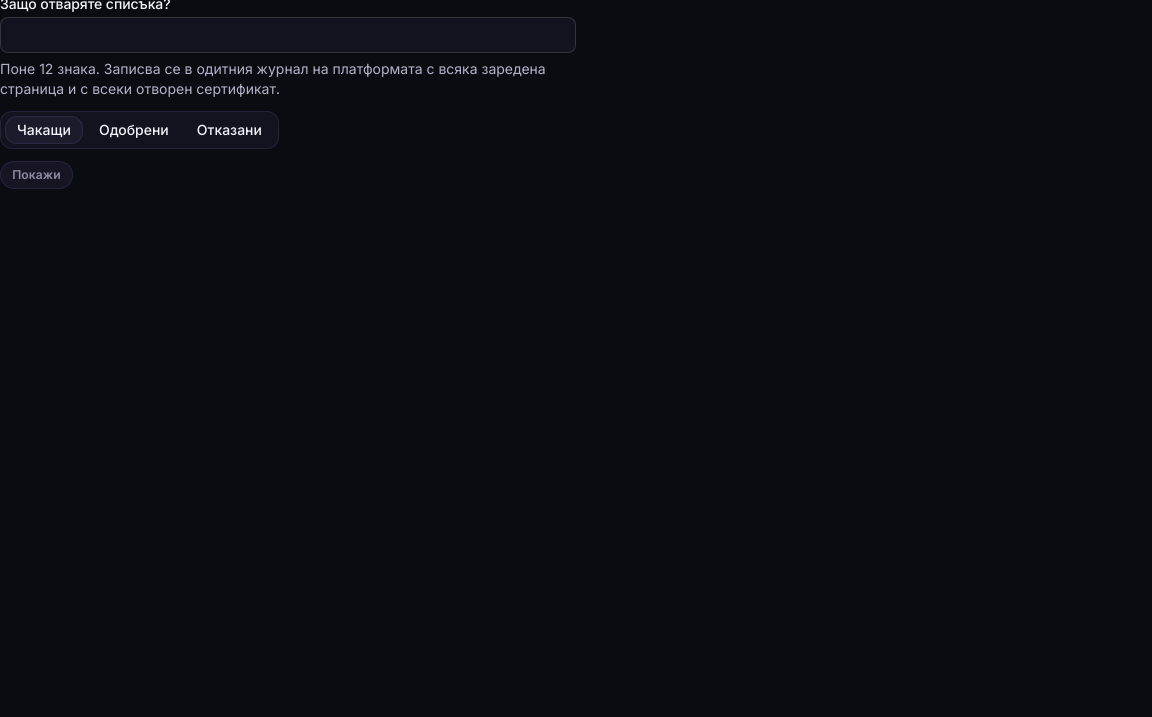
Test: opening the list › "show more" reads exactly the next page
Type "approving the pilot coaches, 14 October" into the field labelled "Защо отваряте списъка?" at (288, 35), box [0,17,576,53]
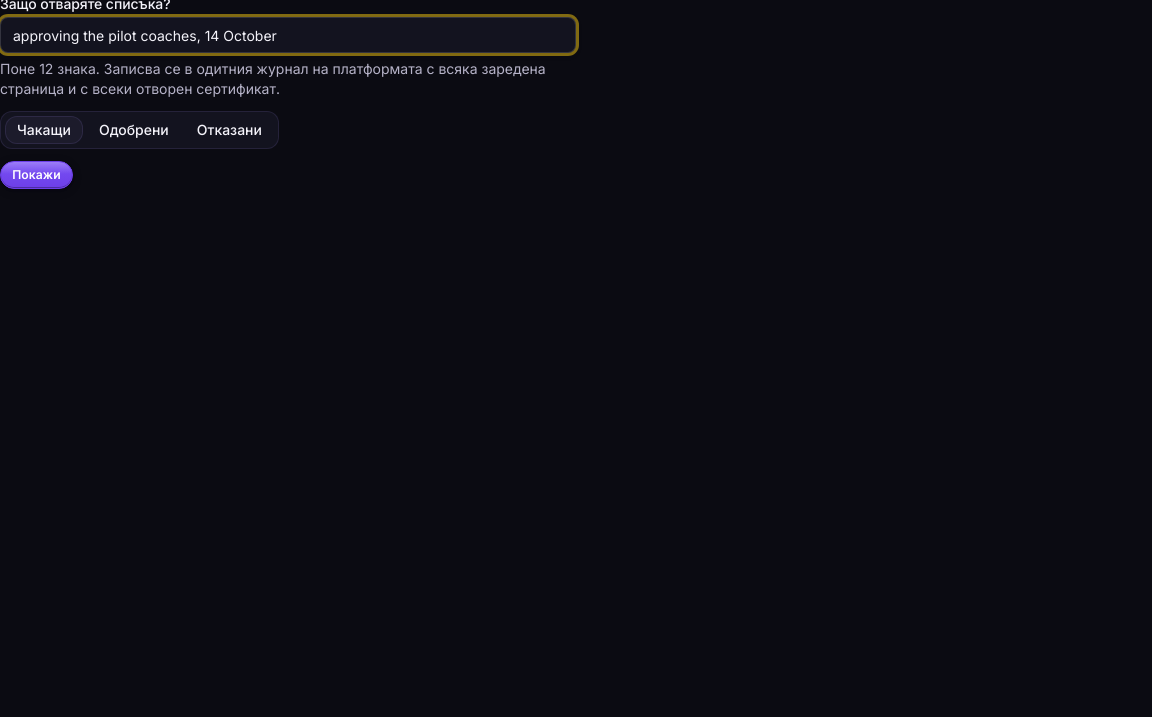
Click the button "Покажи" at (36, 175), box [0,161,73,189]
(page scrolled)
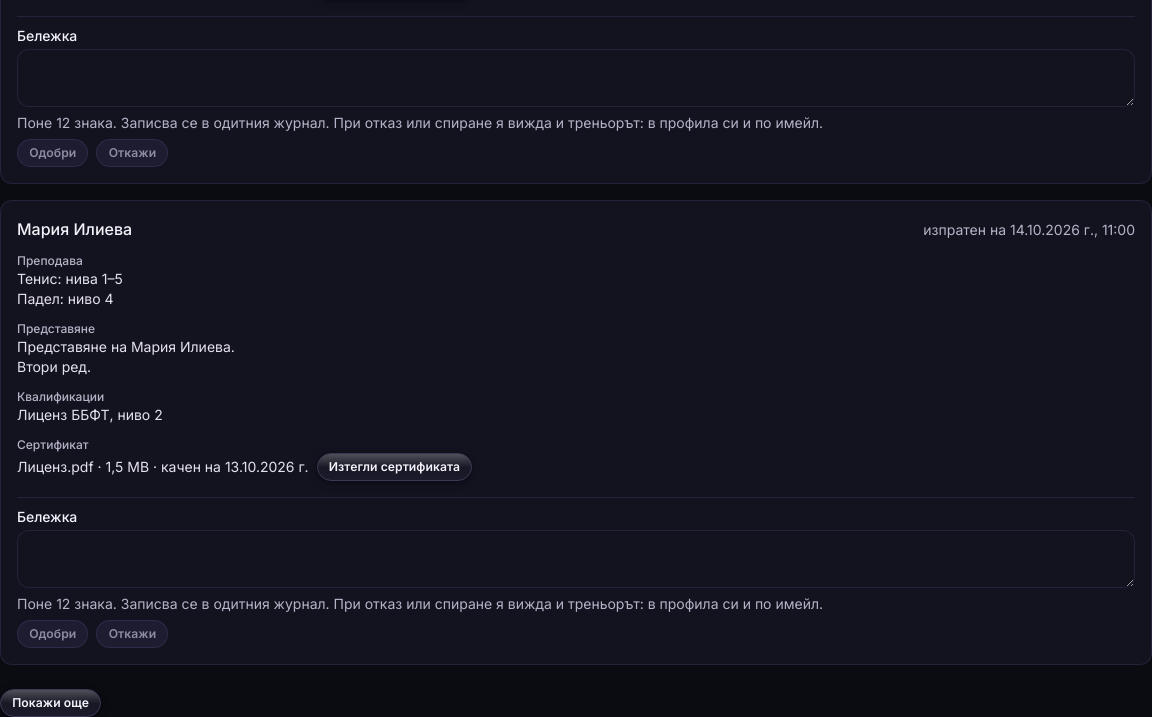
Click the button "Покажи още" at (51, 703), box [0,689,101,716]
(page scrolled)
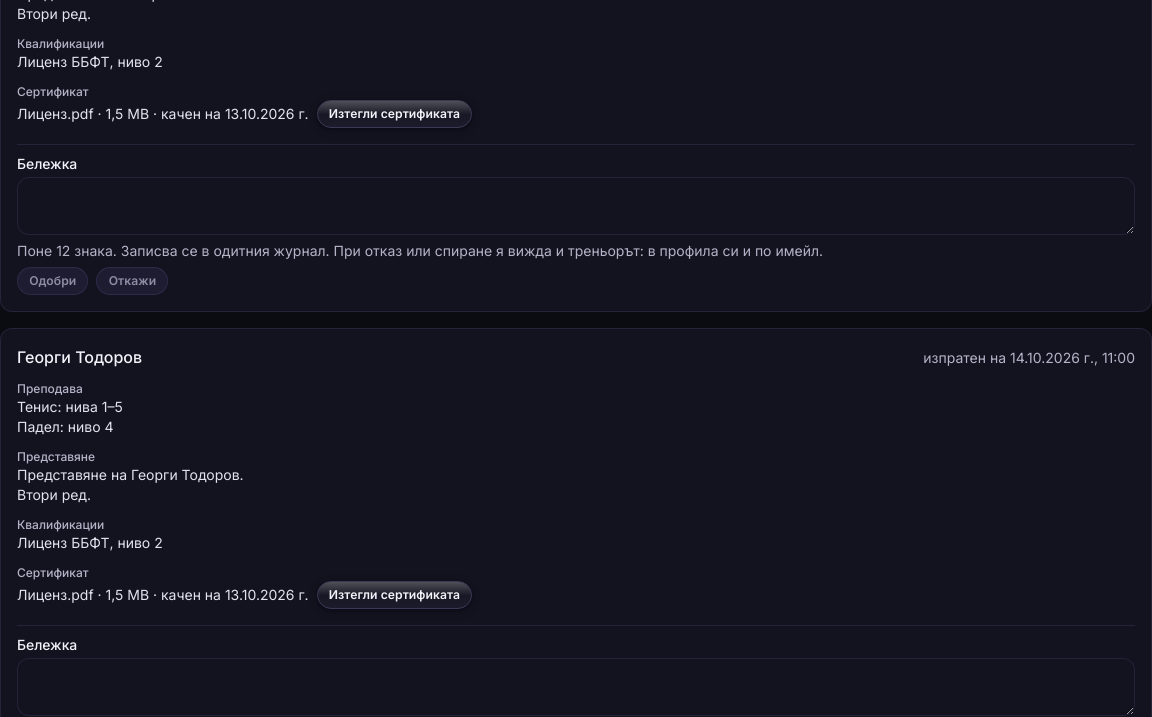
Expected: the text "Георги Тодоров" is shown, [17,345,142,369]
Expected: the button "Покажи още" is gone
